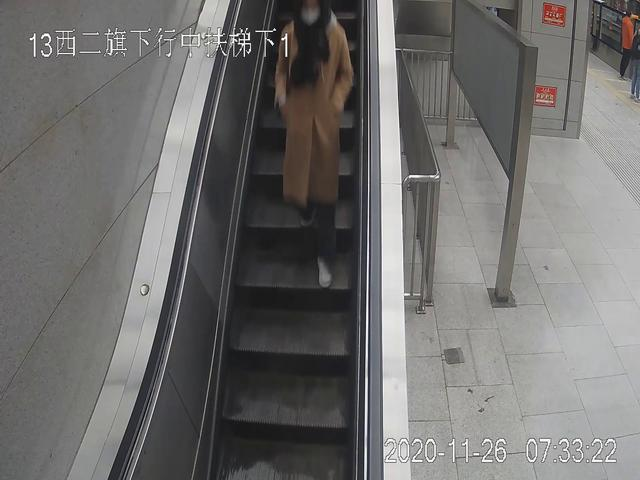person: (274, 2, 353, 288), (618, 12, 633, 78)
